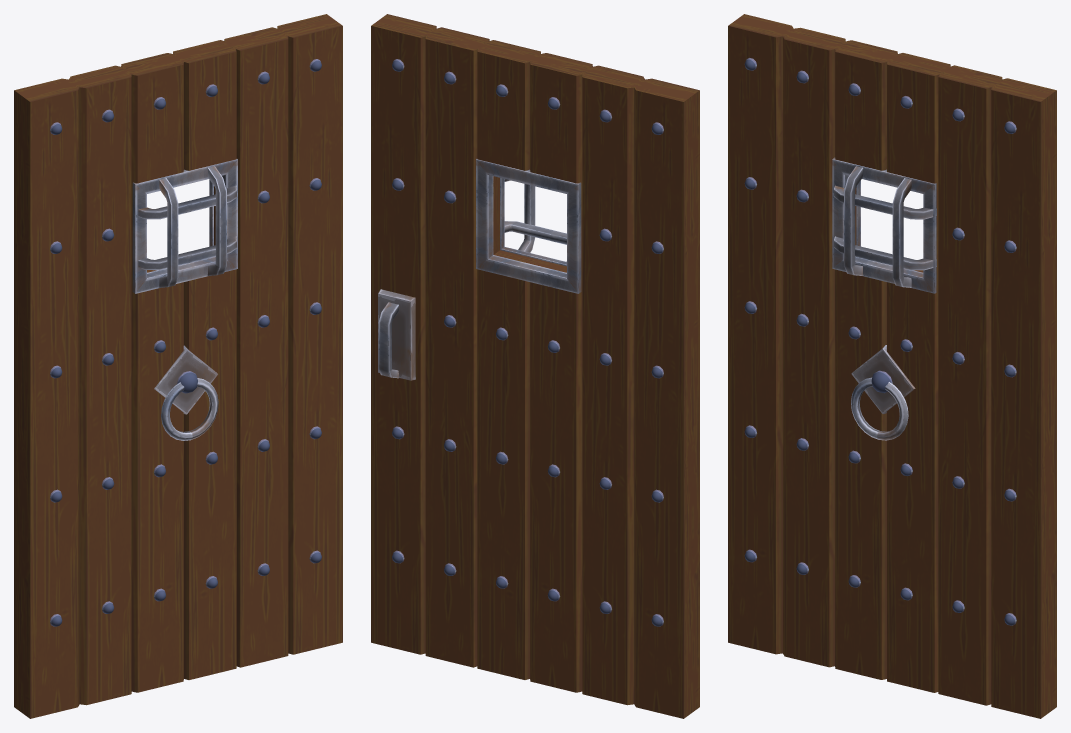
File: door_2_flat.glb
The picture shows the model from 3 angles, left to right: view 1: azimuth 30°, elevation 25°; view 2: azimuth 150°, elevation 25°; view 3: azimuth 330°, elevation 25°; orthographic projection.
Visible parts, largest first — view 1: Door_2_Flat; view 2: Door_2_Flat; view 3: Door_2_Flat.
Part boxes in pixels (x1,y1,x2,y2): Door_2_Flat: (14, 14, 342, 718); Door_2_Flat: (371, 14, 699, 718); Door_2_Flat: (728, 14, 1056, 718).
Size of the model in its own units: 1.11 by 2.1 by 0.2609.
Materials: 2 (2 with a texture image).
